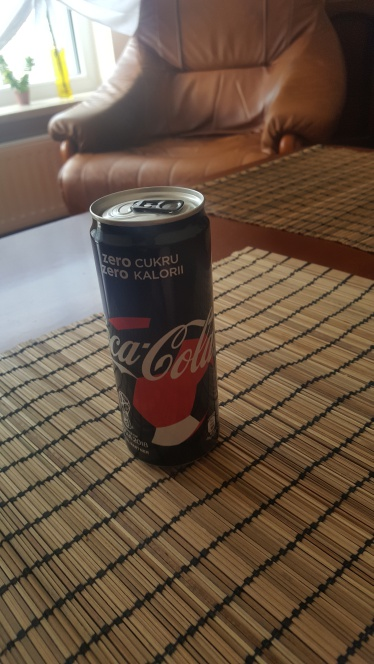colazero: (83, 184, 225, 478)
